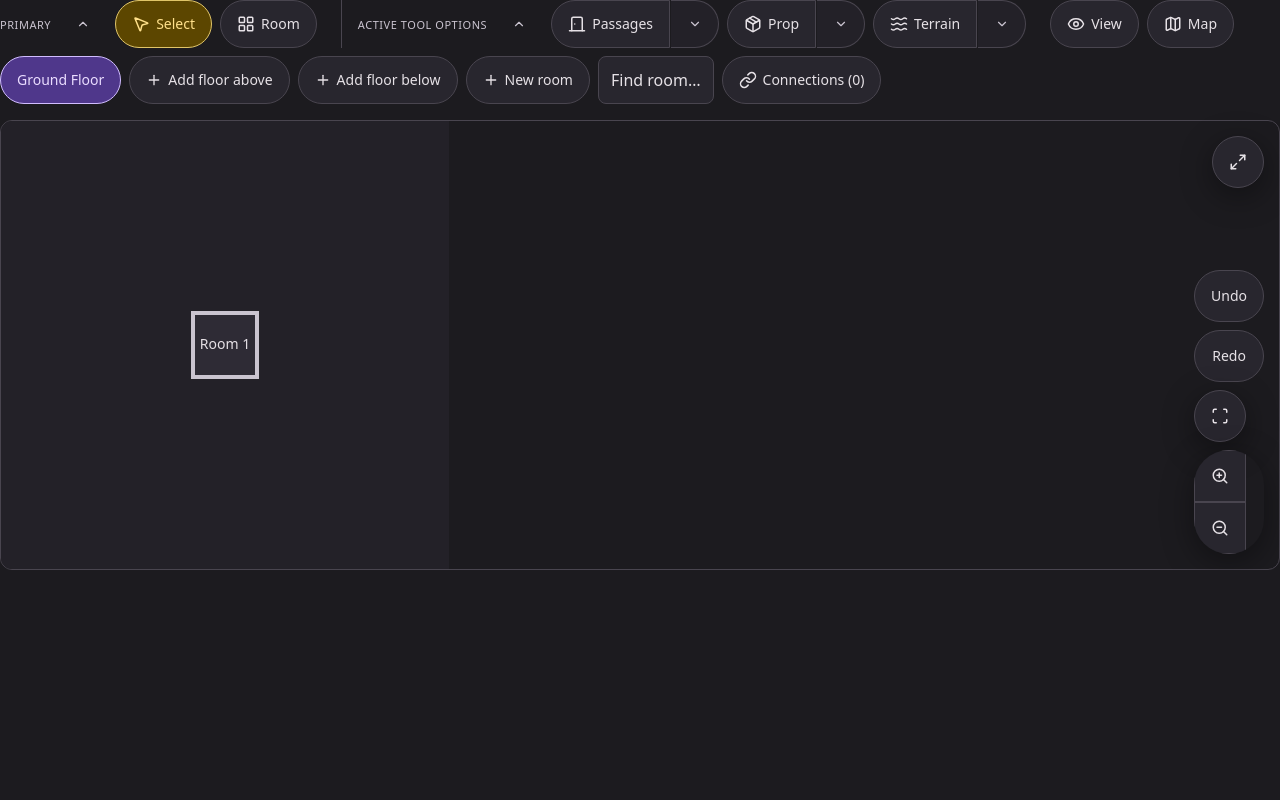
MapLabEditorPage (Stage G0 — Ghost Objects scaffolding) › View toolbar group appears with "Ghost lower floor" toggle (Stage G0)
The image size is (1280, 800).
Click the button "View" at (1094, 24), box [1050,0,1139,48]
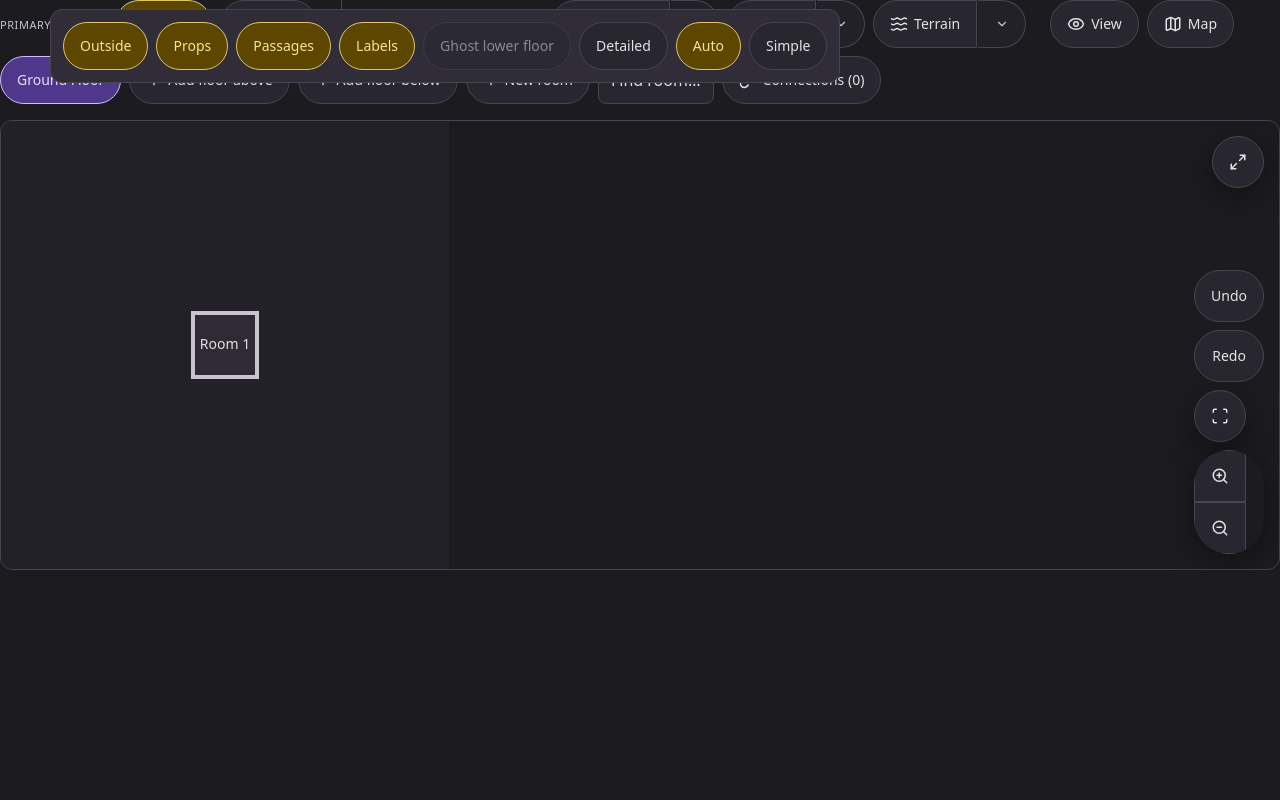
Expected: the button "Ghost lower floor" is shown, [423,22,571,70]
